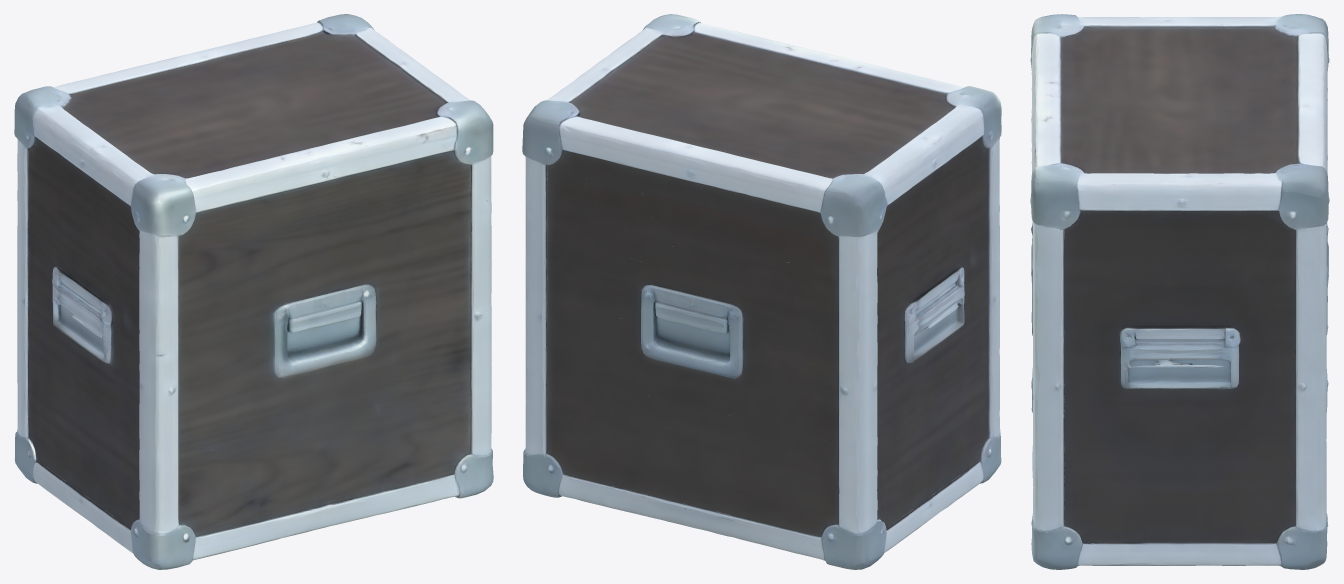
Rendered from flight-case.glb.
3 renders of one model, left to right at view 1: azimuth 30°, elevation 25°; view 2: azimuth 150°, elevation 25°; view 3: azimuth 270°, elevation 25°, orthographic. The views are drawn at different scales.
Parts seen in each view (by area): view 1: Mesh; view 2: Mesh; view 3: Mesh.
Part boxes in pixels (x1,y1,x2,y2): Mesh: (14, 14, 493, 569); Mesh: (522, 14, 1001, 569); Mesh: (1030, 14, 1329, 569).
Bounding box in the file's own units: 1.83 × 1.9 × 1.31.
1 material, 1 textured.
